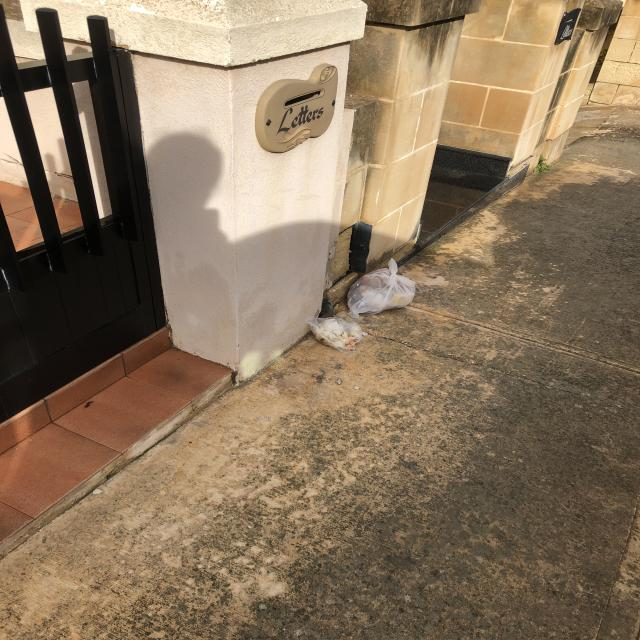Organic Waste -White Bag-: (347, 258, 416, 319), (306, 319, 370, 354)
